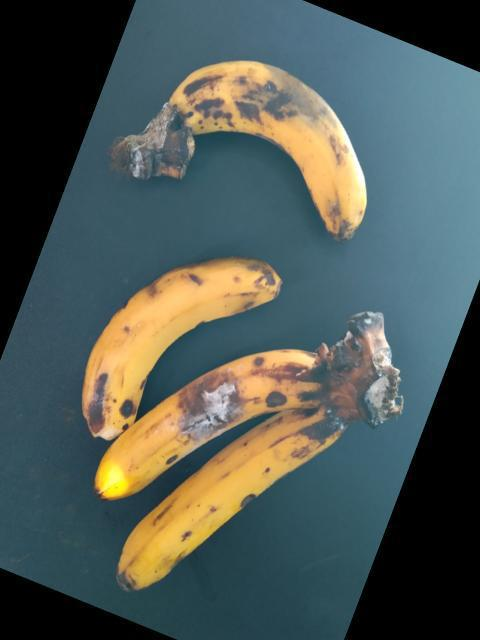ripe: (99, 422, 343, 639), (154, 44, 394, 255), (56, 238, 287, 423)
rotten: (62, 350, 324, 503)
